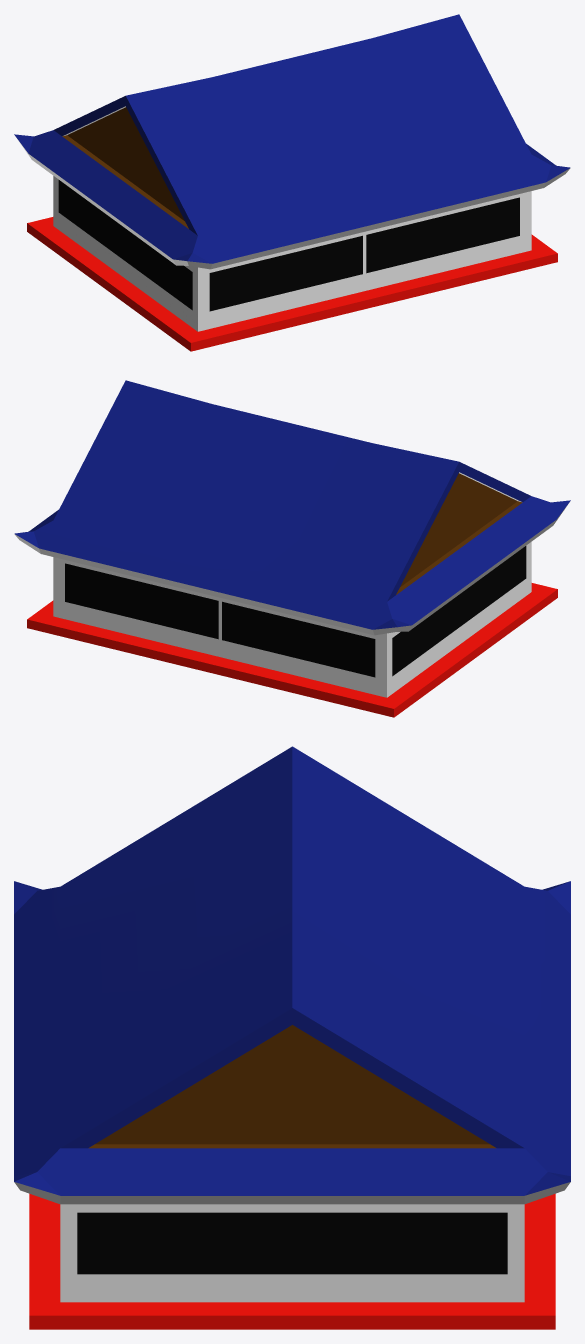
File: asianbarracks.fbx
3 renders of one model, top to bottom at view 1: azimuth 30°, elevation 25°; view 2: azimuth 150°, elevation 25°; view 3: azimuth 270°, elevation 25°, orthographic. The views are drawn at different scales.
Parts seen in each view (by area): view 1: building-japan_large; view 2: building-japan_large; view 3: building-japan_large.
Boxes of the visible parts, left/top/right/bottom form: building-japan_large: left=14, top=14, right=570, bottom=351; building-japan_large: left=14, top=380, right=570, bottom=717; building-japan_large: left=14, top=746, right=570, bottom=1329.
Bounding box in the file's own units: 2300 × 1100 × 1800.
